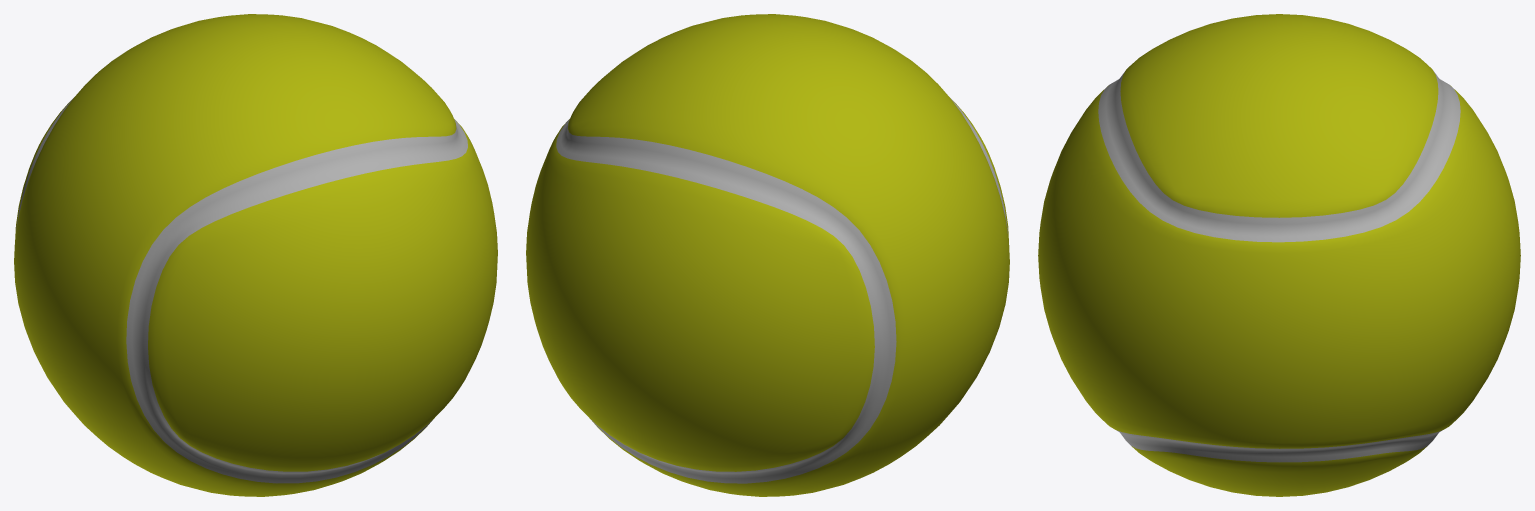
File: tennis-ball.glb
3 views of the same model, side by side, from view 1: azimuth 30°, elevation 25°; view 2: azimuth 150°, elevation 25°; view 3: azimuth 270°, elevation 25° (orthographic).
Visible parts, largest first — view 1: Fuzz_Export; view 2: Fuzz_Export; view 3: Fuzz_Export.
Part boxes in pixels (x1,y1,x2,y2): Fuzz_Export: (14, 14, 497, 496); Fuzz_Export: (526, 14, 1009, 496); Fuzz_Export: (1038, 14, 1520, 496).
Size of the model in its own units: 1.62 by 1.62 by 1.62.
